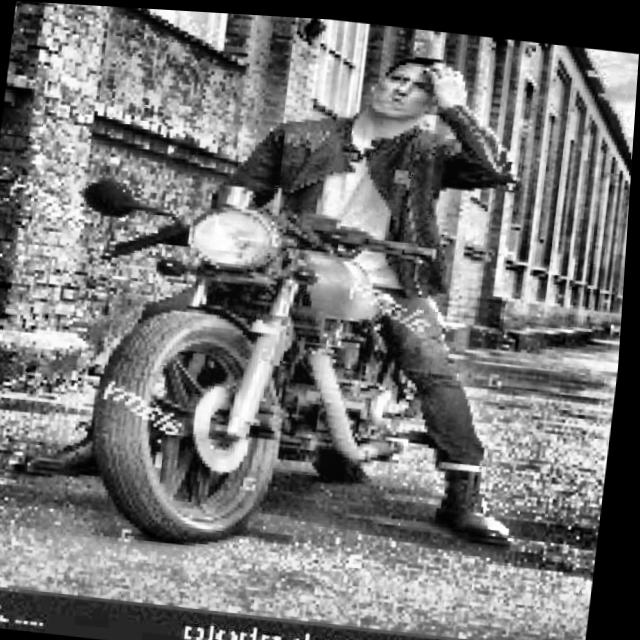motorcycle: (50, 154, 552, 576)
